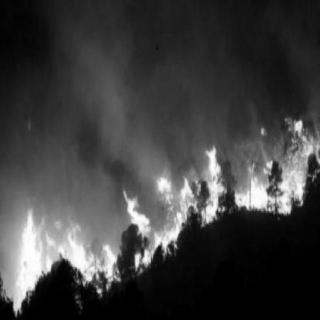Fire: (15, 199, 127, 310)
